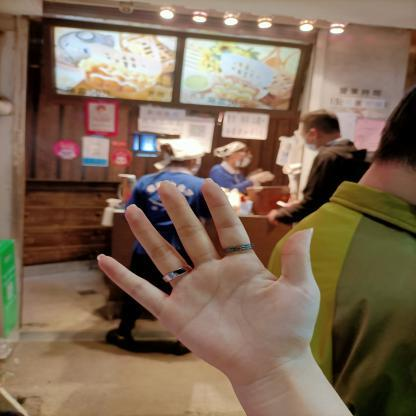bare_hand: (89, 164, 330, 379)
